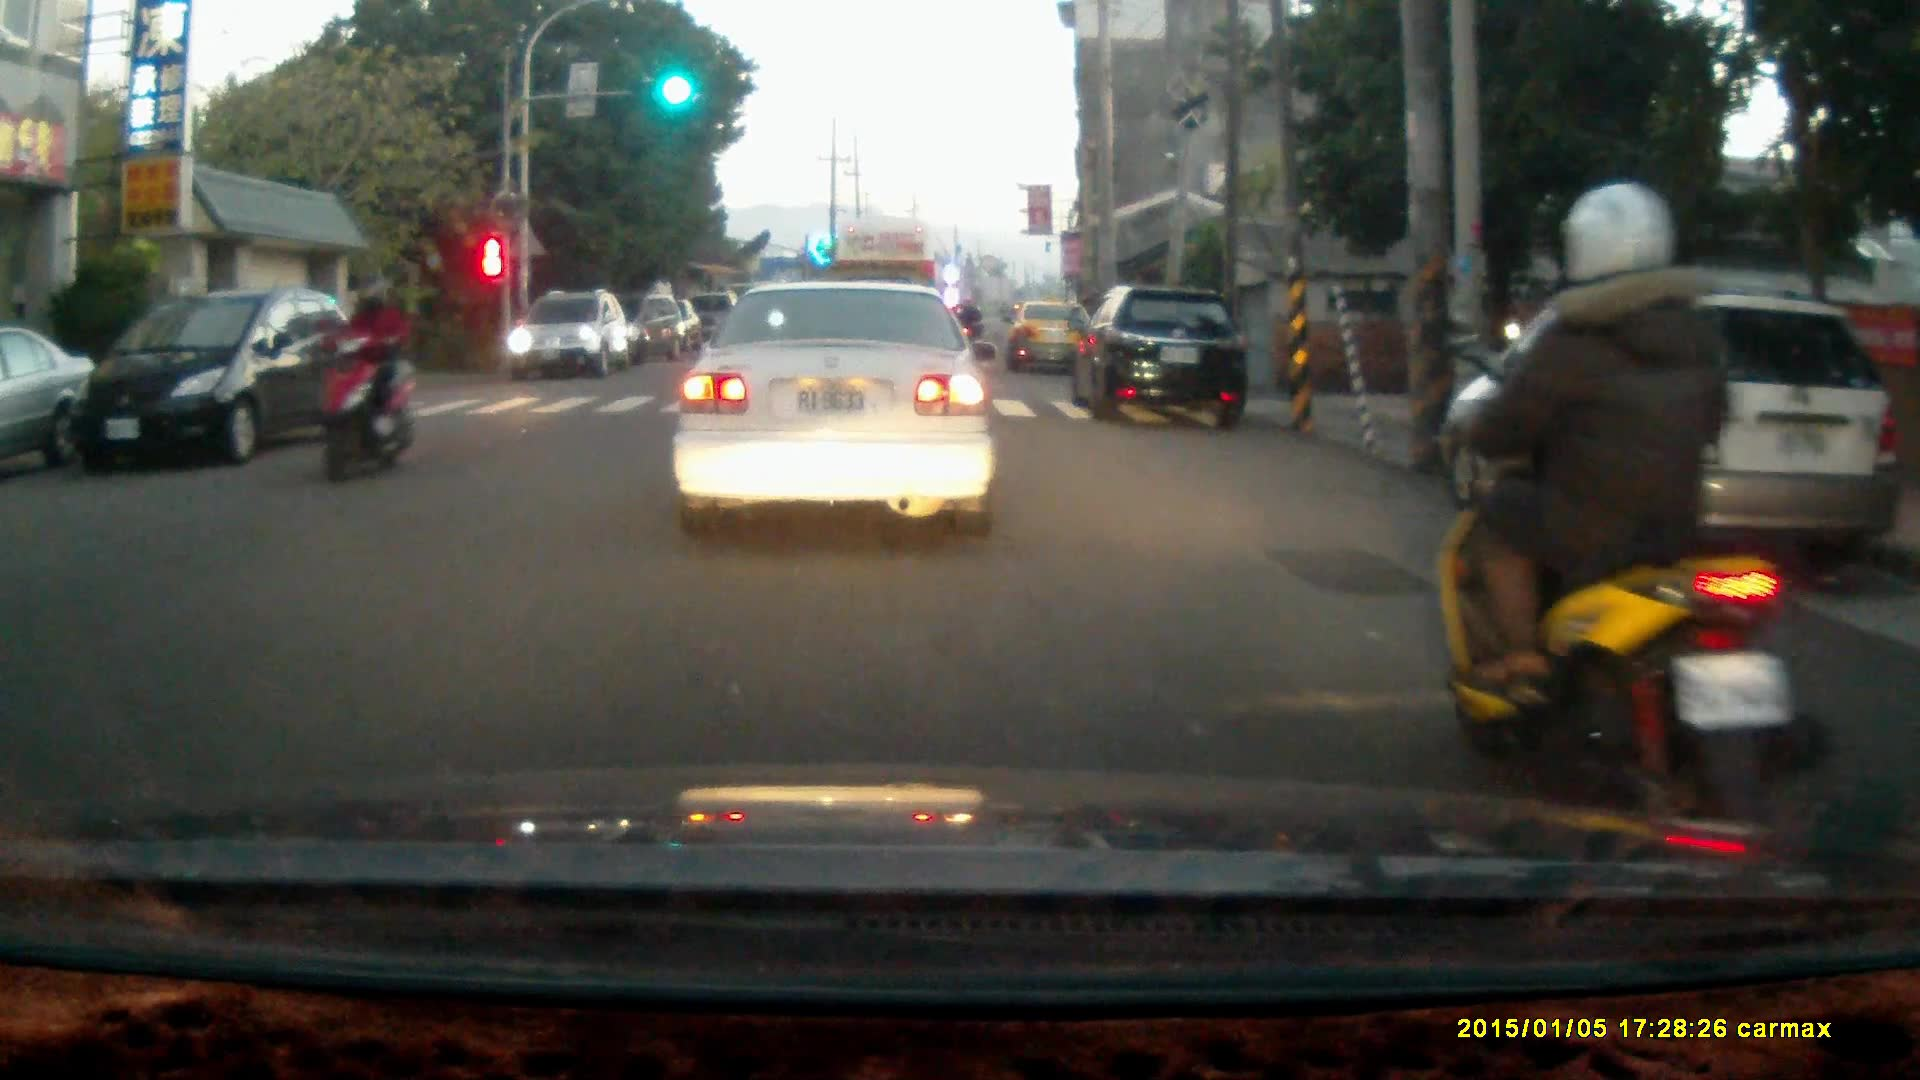rider: (1431, 181, 1833, 870), (311, 268, 409, 482)
vehicle: (1446, 292, 1911, 567), (676, 276, 998, 538), (66, 284, 379, 469), (1080, 284, 1244, 425), (829, 211, 945, 364), (0, 321, 95, 477), (508, 293, 634, 381), (1006, 298, 1103, 378)
